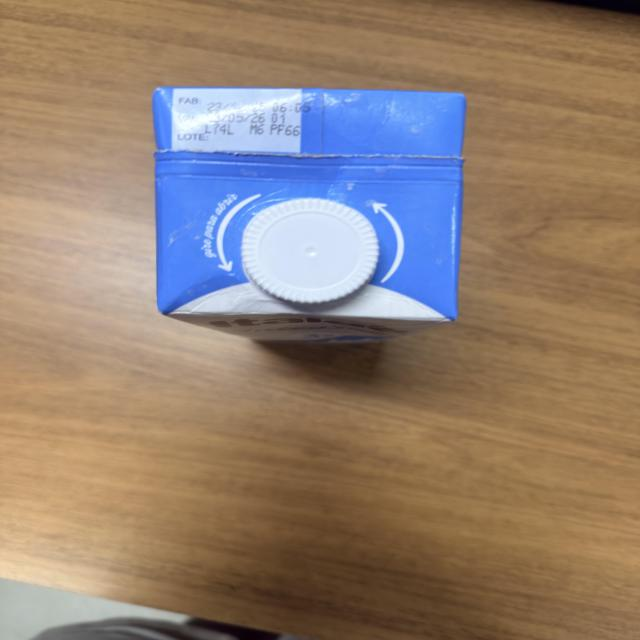Caixa de Leite: (147, 85, 469, 342)
